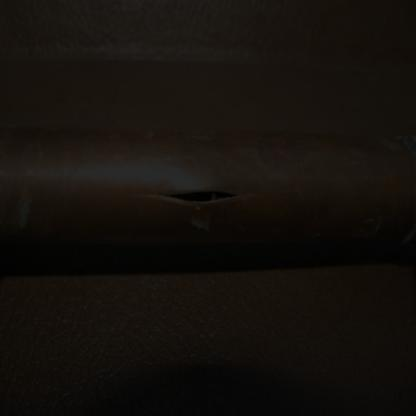burst: (143, 169, 253, 227)
